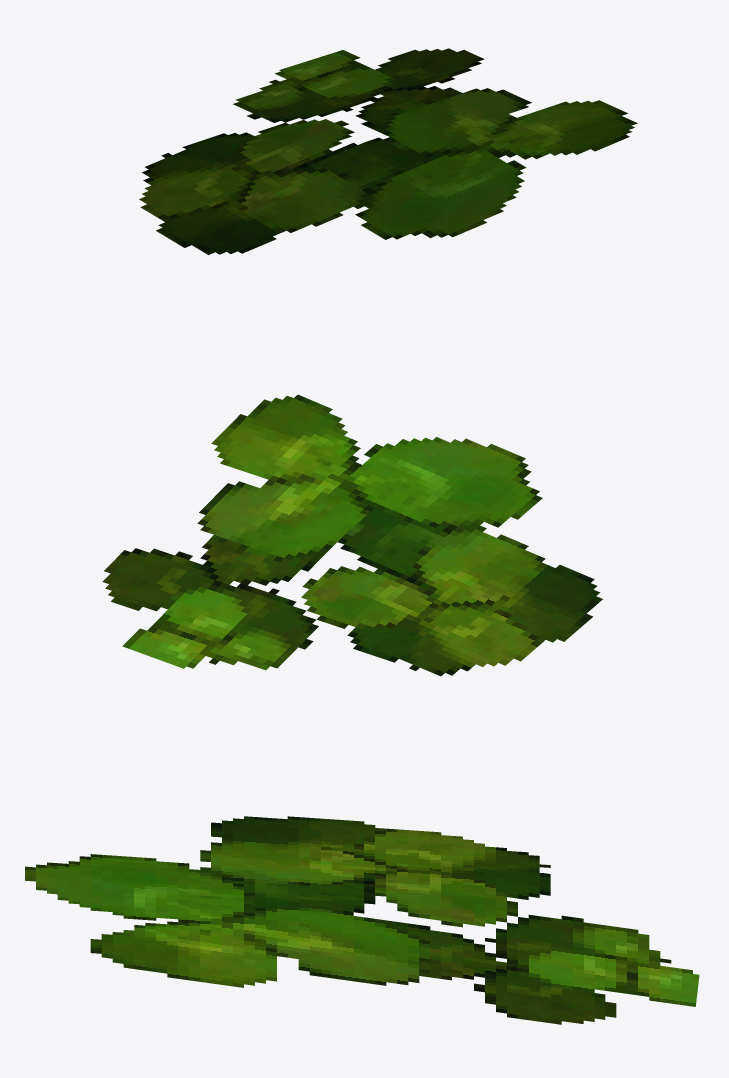
3 renders of one model, top to bottom at view 1: azimuth 30°, elevation 25°; view 2: azimuth 150°, elevation 25°; view 3: azimuth 270°, elevation 25°, orthographic. The views are drawn at different scales.
Parts seen in each view (by area): view 1: Joint_0_Object_0; view 2: Joint_0_Object_0; view 3: Joint_0_Object_0.
Boxes of the visible parts, x1,y1,x2,y2 form: Joint_0_Object_0: (139, 48, 637, 254); Joint_0_Object_0: (102, 394, 602, 676); Joint_0_Object_0: (25, 816, 699, 1024).
Bounding box in the file's own units: 408 × 98.82 × 423.
